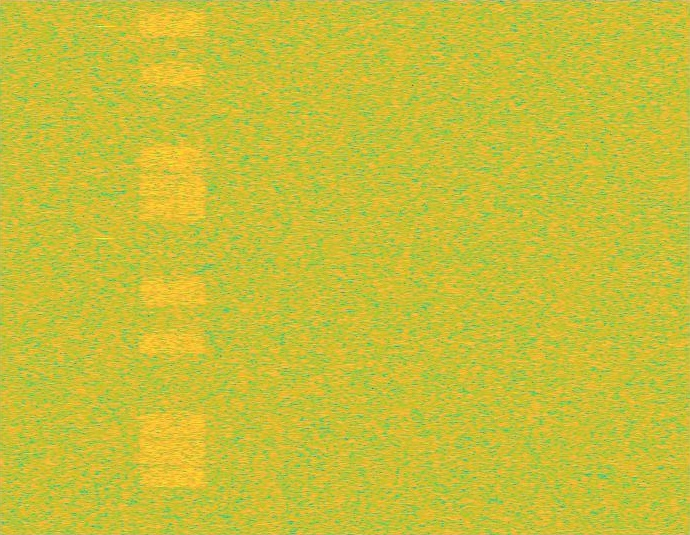LTE: (138, 0, 207, 534)
Radar: (98, 0, 111, 534)
